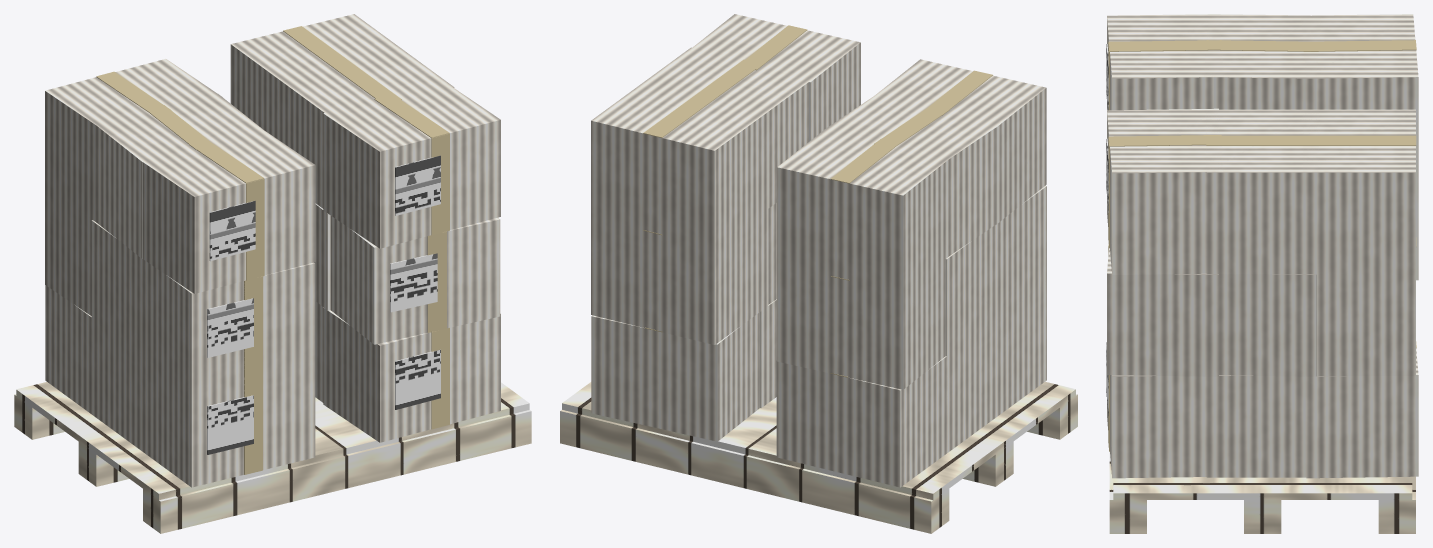
File: bancale_c2.obj
3 renders of one model, left to right at view 1: azimuth 30°, elevation 25°; view 2: azimuth 150°, elevation 25°; view 3: azimuth 270°, elevation 25°, orthographic. The views are drawn at different scales.
Parts seen in each view (by area): view 1: cartone_044, cartone_053, legno_000, cartone_017, cartone_008, cartone_026, cartone_035, cartone_038, legno_001, cartone_041, cartone_047, cartone_050 (+22 smaller); view 2: cartone_038, cartone_047, cartone_029, cartone_002, cartone_011, cartone_020, legno_000, cartone_044, legno_001, cartone_041, cartone_050, cartone_053 (+12 smaller); view 3: cartone_047, cartone_050, cartone_053, cartone_011, cartone_035, cartone_014, cartone_029, cartone_032, cartone_017, cartone_038, cartone_044, cartone_041 (+8 smaller).
Part boxes in pixels (x1=…): cartone_044: x1=137, y1=127, x2=315, y2=293; cartone_053: x1=323, y1=81, x2=500, y2=248; legno_000: x1=14, y1=394, x2=531, y2=533; cartone_017: x1=323, y1=307, x2=500, y2=442; cartone_008: x1=138, y1=351, x2=315, y2=487; cartone_026: x1=138, y1=256, x2=315, y2=390; cartone_035: x1=330, y1=216, x2=500, y2=344; cartone_038: x1=45, y1=59, x2=222, y2=222; legno_001: x1=16, y1=382, x2=529, y2=500; cartone_041: x1=93, y1=97, x2=267, y2=258; cartone_047: x1=230, y1=14, x2=407, y2=138; cartone_050: x1=277, y1=48, x2=454, y2=208; cartone_038: x1=777, y1=127, x2=952, y2=292; cartone_047: x1=591, y1=81, x2=767, y2=247; cartone_029: x1=591, y1=209, x2=768, y2=344; cartone_002: x1=776, y1=351, x2=953, y2=487; cartone_011: x1=591, y1=312, x2=759, y2=441; cartone_020: x1=777, y1=259, x2=945, y2=389; legno_000: x1=560, y1=394, x2=1077, y2=533; cartone_044: x1=870, y1=59, x2=1046, y2=224; legno_001: x1=562, y1=381, x2=1075, y2=499; cartone_041: x1=823, y1=97, x2=1000, y2=255; cartone_050: x1=645, y1=47, x2=814, y2=213; cartone_053: x1=692, y1=14, x2=860, y2=141; cartone_047: x1=1303, y1=109, x2=1415, y2=274; cartone_050: x1=1206, y1=109, x2=1318, y2=274; cartone_053: x1=1107, y1=108, x2=1223, y2=274; cartone_011: x1=1306, y1=348, x2=1418, y2=478; cartone_035: x1=1107, y1=248, x2=1218, y2=376; cartone_014: x1=1206, y1=375, x2=1306, y2=477; cartone_029: x1=1316, y1=274, x2=1415, y2=375; cartone_032: x1=1219, y1=274, x2=1316, y2=376; cartone_017: x1=1107, y1=375, x2=1206, y2=478; cartone_038: x1=1301, y1=14, x2=1418, y2=178; cartone_044: x1=1107, y1=14, x2=1223, y2=110; cartone_041: x1=1204, y1=14, x2=1320, y2=109.
Bounding box in the file's own units: 1.2 × 1.02 × 0.835.
5 materials, 4 textured.
